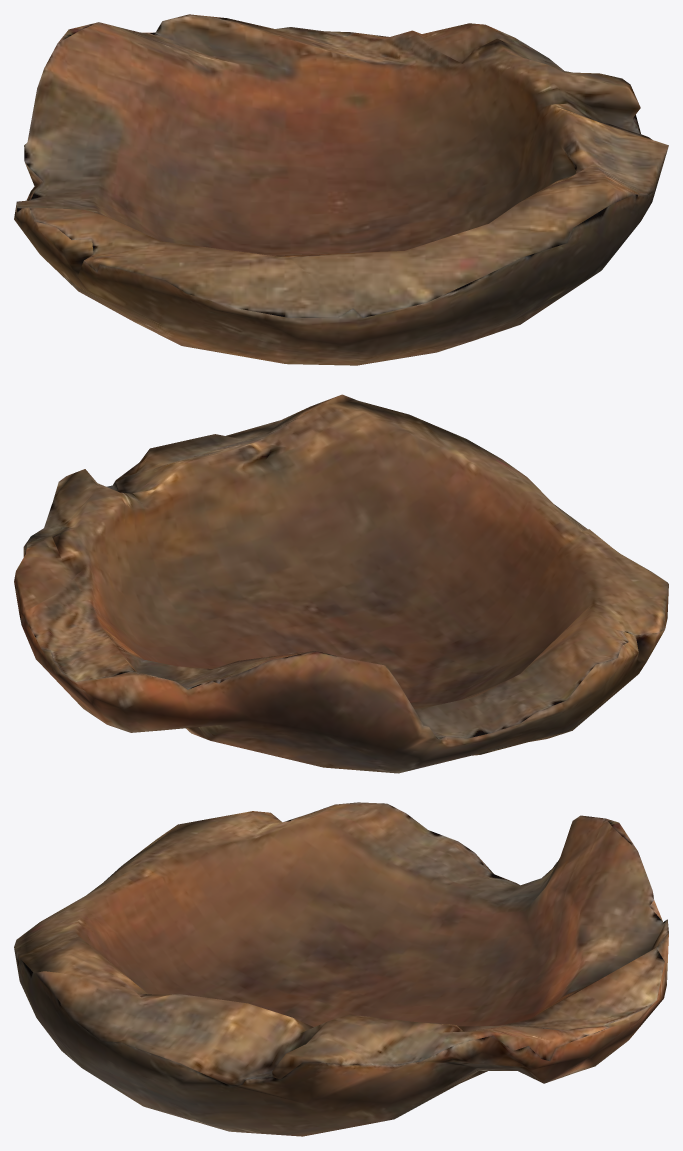
File: wooden_bowl_01.glb
3 renders of one model, top to bottom at view 1: azimuth 30°, elevation 25°; view 2: azimuth 150°, elevation 25°; view 3: azimuth 270°, elevation 25°, orthographic. The views are drawn at different scales.
Visible parts, largest first — view 1: wooden_bowl_01; view 2: wooden_bowl_01; view 3: wooden_bowl_01.
Boxes of the visible parts, x1,y1,x2,y2 form: wooden_bowl_01: (14,14,668,365); wooden_bowl_01: (14,394,668,773); wooden_bowl_01: (14,802,668,1136).
Size of the model in its own units: 0.3127 by 0.0932 by 0.3079.
1 material, 1 textured.
